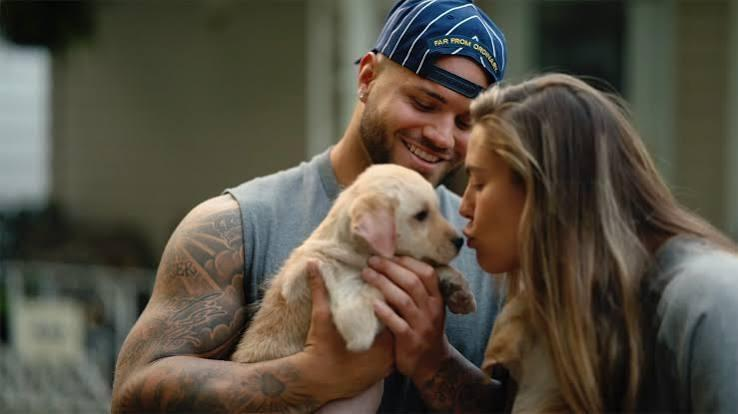non-dog: (110, 1, 512, 414), (459, 74, 738, 414)
puppy-dog: (233, 163, 476, 414)
